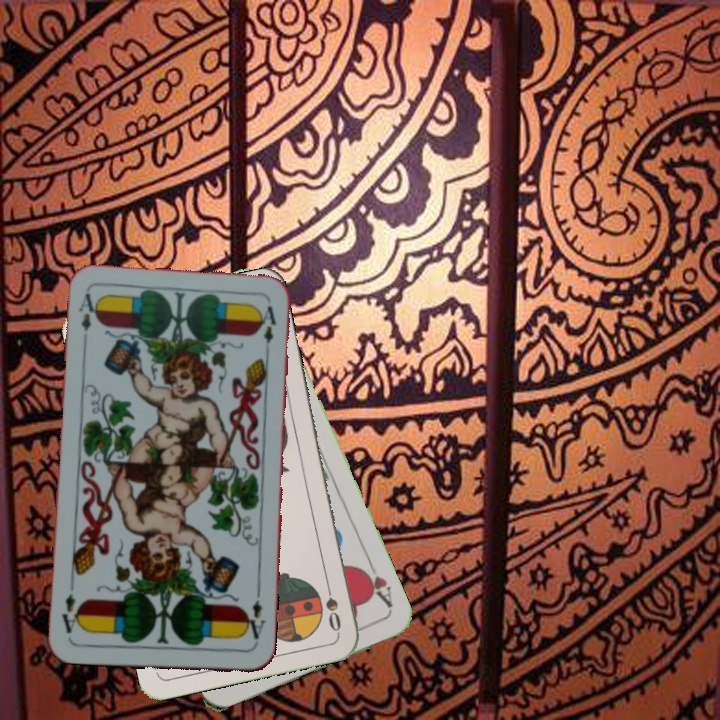EA: (74, 289, 101, 347), (240, 596, 267, 648)
HA: (356, 556, 395, 611)
SO: (321, 576, 344, 635)
